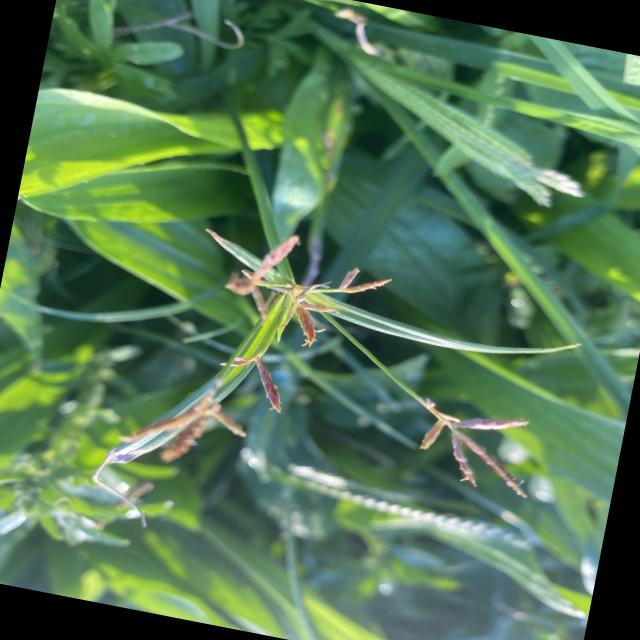cyperus: (88, 200, 588, 562)
